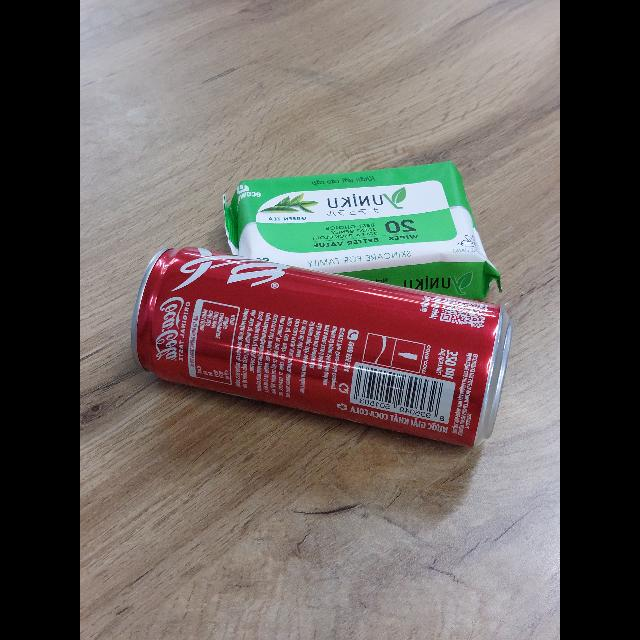coca_cola: (130, 248, 517, 451)
khan_giay: (219, 164, 501, 308)
